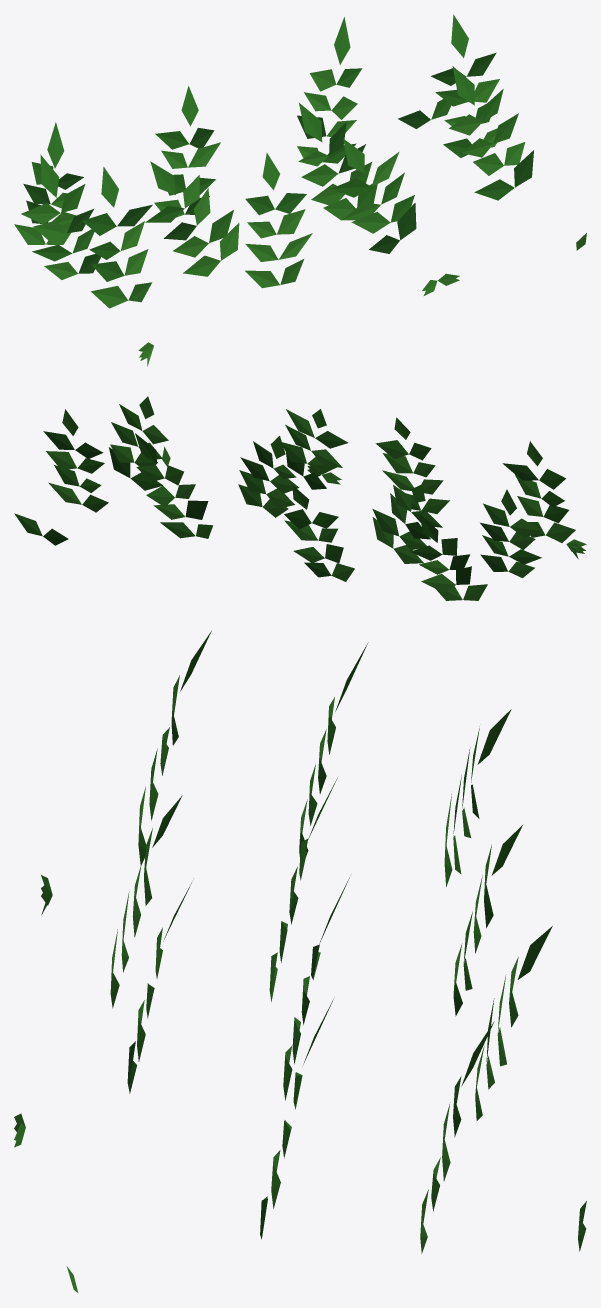
3 renders of one model, top to bottom at view 1: azimuth 30°, elevation 25°; view 2: azimuth 150°, elevation 25°; view 3: azimuth 270°, elevation 25°, orthographic. The views are drawn at different scales.
Parts seen in each view (by area): view 1: r19c0_l10; view 2: r19c0_l10; view 3: r19c0_l10.
Boxes of the visible parts, x1,y1,x2,y2 form: r19c0_l10: (14, 14, 586, 366); r19c0_l10: (14, 396, 586, 600); r19c0_l10: (14, 630, 586, 1292).
Size of the model in its own units: 2.03 by 0.6202 by 1.1.
